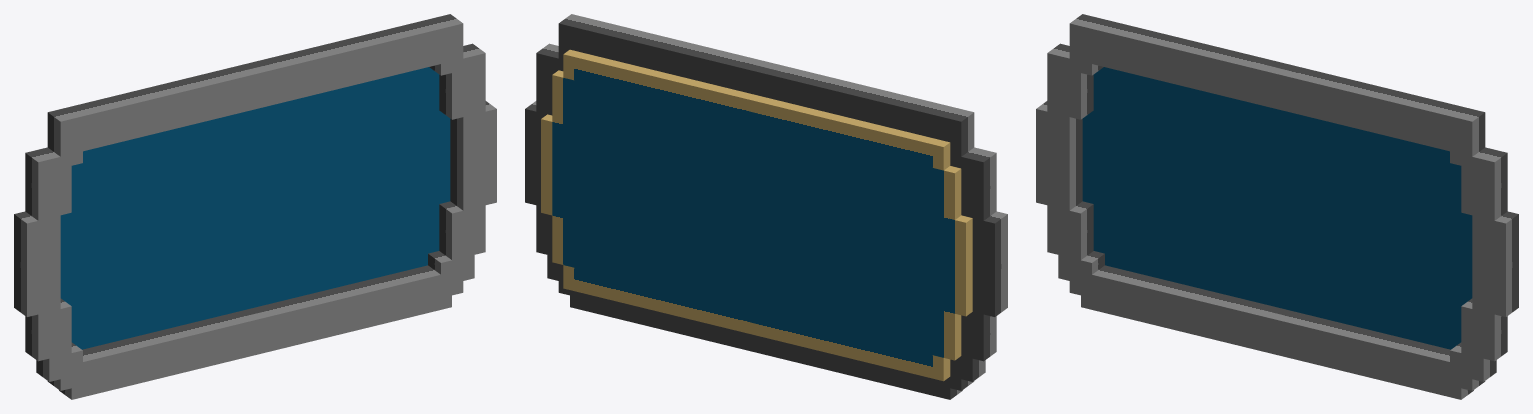
The model's file is Mana_Bar.fbx.
3 renders of one model, left to right at view 1: azimuth 30°, elevation 25°; view 2: azimuth 150°, elevation 25°; view 3: azimuth 330°, elevation 25°, orthographic.
Visible parts, largest first — view 1: Mana_Bar.Merged; view 2: Mana_Bar.Merged; view 3: Mana_Bar.Merged.
Part boxes in pixels (x1=…): Mana_Bar.Merged: x1=14, y1=14, x2=496, y2=399; Mana_Bar.Merged: x1=525, y1=14, x2=1007, y2=399; Mana_Bar.Merged: x1=1036, y1=14, x2=1518, y2=399.
Size of the model in its own units: 8400 by 4800 by 600.
